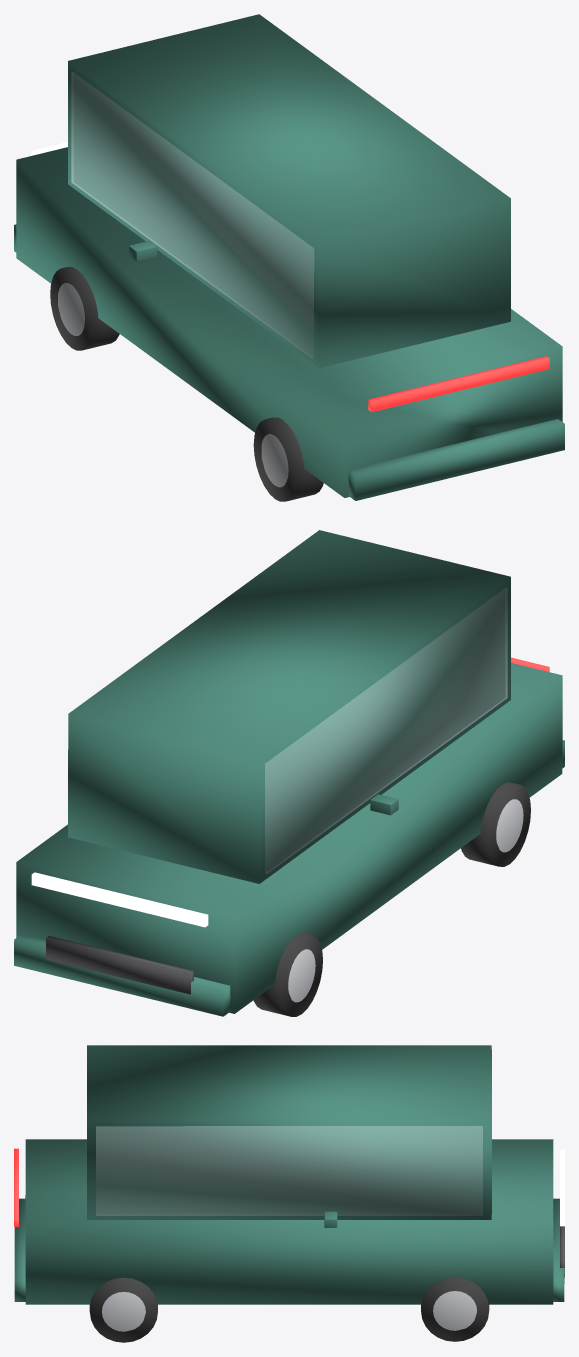
File: vehicle.glb
3 renders of one model, top to bottom at view 1: azimuth 30°, elevation 25°; view 2: azimuth 150°, elevation 25°; view 3: azimuth 270°, elevation 25°, orthographic. The views are drawn at different scales.
Visible parts, largest first — view 1: BODY_Roof, BODY_Main, GLASS_Greenhouse, BODY_Bumpers_Rear, WHEEL_RR_Tire, LIGHT_Taillights, WHEEL_FR_Tire, WHEEL_RR_Alloy, WHEEL_FR_Alloy; view 2: BODY_Roof, BODY_Main, GLASS_Greenhouse, BODY_Bumpers_Front, BODY_Grille, WHEEL_RR_Tire, WHEEL_FR_Tire, LIGHT_Headlights, WHEEL_FR_Alloy, WHEEL_RR_Alloy; view 3: BODY_Roof, BODY_Main, GLASS_Greenhouse, WHEEL_RL_Tire, WHEEL_FL_Tire, WHEEL_RL_Alloy, WHEEL_FL_Alloy, BODY_Bumpers_Rear, BODY_Bumpers_Front, LIGHT_Taillights, LIGHT_Headlights.
Boxes of the visible parts, x1,y1,x2,y2 form: BODY_Roof: (68, 14, 510, 368); BODY_Main: (16, 147, 562, 497); GLASS_Greenhouse: (71, 72, 313, 358); BODY_Bumpers_Rear: (348, 419, 564, 500); WHEEL_RR_Tire: (253, 417, 323, 501); LIGHT_Taillights: (368, 356, 549, 412); WHEEL_FR_Tire: (50, 267, 119, 350); WHEEL_RR_Alloy: (261, 434, 288, 487); WHEEL_FR_Alloy: (58, 283, 84, 335); BODY_Roof: (68, 530, 510, 883); BODY_Main: (16, 663, 562, 1013); GLASS_Greenhouse: (265, 588, 507, 873); BODY_Bumpers_Front: (14, 934, 230, 1016); BODY_Grille: (46, 936, 193, 994); WHEEL_RR_Tire: (461, 782, 530, 866); WHEEL_FR_Tire: (253, 933, 322, 1016); LIGHT_Headlights: (31, 872, 208, 927); WHEEL_FR_Alloy: (288, 949, 315, 1002); WHEEL_RR_Alloy: (496, 799, 523, 852); BODY_Roof: (87, 1045, 491, 1219); BODY_Main: (25, 1139, 553, 1304); GLASS_Greenhouse: (96, 1126, 482, 1215); WHEEL_RL_Tire: (89, 1277, 157, 1342); WHEEL_FL_Tire: (421, 1277, 489, 1341); WHEEL_RL_Alloy: (102, 1292, 145, 1331); WHEEL_FL_Alloy: (433, 1291, 476, 1330); BODY_Bumpers_Rear: (14, 1198, 25, 1301); BODY_Bumpers_Front: (553, 1198, 564, 1301); LIGHT_Taillights: (14, 1148, 18, 1226); LIGHT_Headlights: (560, 1149, 564, 1226).
Bounding box in the file's own units: 2.28 × 2.21 × 5.16.
